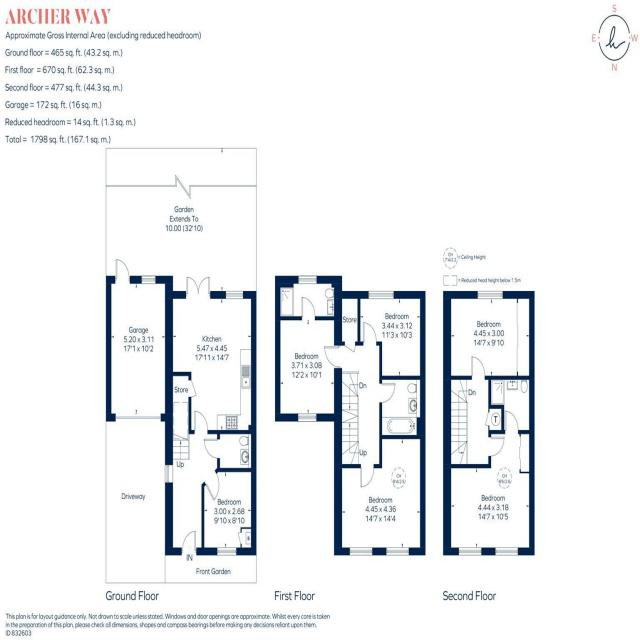DOOR: (204, 469, 220, 501), (324, 344, 342, 370), (181, 530, 197, 555), (301, 296, 316, 321), (504, 410, 519, 434), (471, 356, 486, 380), (488, 436, 505, 457), (379, 383, 396, 403), (360, 464, 374, 488), (363, 322, 377, 346), (204, 438, 220, 459), (194, 410, 208, 434)
DOUBLE DOOR: (185, 275, 211, 300)
ROOM: (165, 276, 257, 434), (443, 410, 535, 556), (334, 434, 426, 556), (275, 296, 342, 422), (443, 291, 535, 380), (357, 291, 425, 380), (201, 468, 257, 555)
WINDOW: (477, 290, 504, 299), (368, 290, 394, 299), (495, 547, 519, 556), (458, 547, 482, 556), (349, 547, 373, 556), (386, 547, 410, 556), (297, 412, 317, 422), (225, 290, 244, 300), (298, 275, 318, 284), (217, 547, 237, 556), (164, 464, 173, 484)
